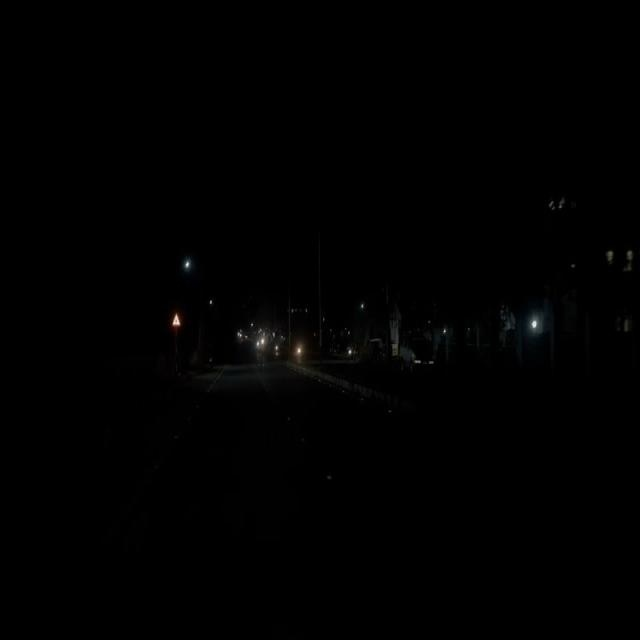bien_nguy_hiem: (170, 312, 182, 329)
